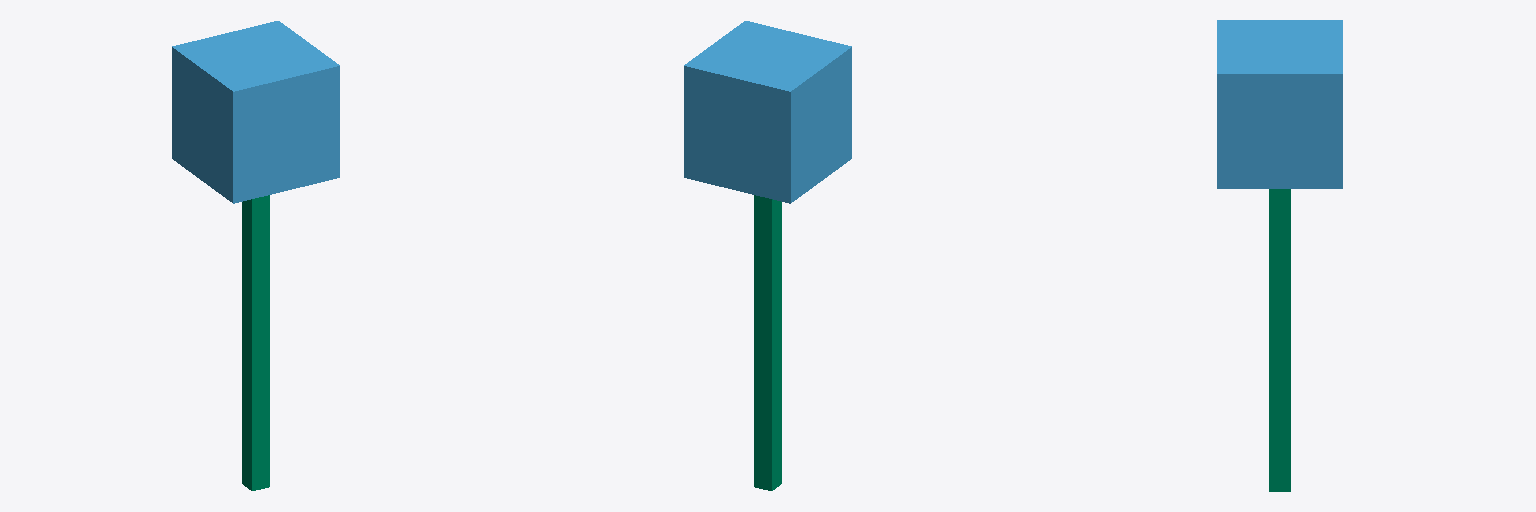
URDF robot description (pendulum_cart):
<?xml version="1.0" encoding="utf-8"?>
<robot name="pendulum_cart">
    <!-- Inertia box Ixx = 1/12 * (ly*2 + lh*2)-->

    <link name="odom"/>

    <joint name="cart" type="prismatic">
        <origin rpy="0 0 0" xyz="0 0 0"/>
        <parent link="odom"/>
        <child link="cart_link"/>
        <axis xyz="0 1 0"/>
        <limit effort="1000" lower="-30.14" upper="30.14" velocity="1.0"/>
    </joint>

    <link name="cart_link">
        <inertial>
            <origin xyz="0.0 0.0 0.0" rpy="0 0 0" />
            <mass value="1.0" />
            <inertia ixx="0.001667" ixy="0.0" ixz="0.0" iyy="0.0841667" iyz="0.0" izz="0.084167" />
        </inertial>
        <visual>
            <origin xyz="0.0 0.0 0.0" rpy="0 0 0"/>
            <geometry>
                <box size="0.3 0.3 0.3"/>
            </geometry>
        </visual>
    </link>

    <joint name="pendulum" type="continuous">
        <origin rpy="0 1.57079632 0" xyz="0.0 0.0 0.0"/>
        <parent link="cart_link"/>
        <child link="pendulum_link"/>
        <axis xyz="0 0 1"/>
        <limit effort="1000" velocity="1.0"/>
    </joint>

    <link name="pendulum_link">
        <inertial>
            <origin xyz="0.5 0.0 0.0" rpy="0 0 0" />
            <mass value="1.0" />
            <inertia ixx="0.001667" ixy="0.0" ixz="0.0" iyy="0.0841667" iyz="0.0" izz="0.084167" />
        </inertial>
        <visual>
            <origin xyz="0.5 0.0 0.0" rpy="0 0 0"/>
            <geometry>
                <box size="1 0.05 0.05"/>
            </geometry>
        </visual>
    </link>

</robot>

--- Facts derived from the render (not from the file) ---
3 views of the same robot in one strip: view 1: azimuth 30°, elevation 25°; view 2: azimuth 150°, elevation 25°; view 3: azimuth 270°, elevation 25° (orthographic).
Model pendulum_cart with 3 links and 2 joints (1 continuous, 1 prismatic), rooted at odom, posed every joint at zero.
Links seen in each view (by area): view 1: cart_link, pendulum_link; view 2: cart_link, pendulum_link; view 3: cart_link, pendulum_link.
Link boxes in pixels (box(x1,y1,x2,y2)): cart_link: box(172, 21, 339, 203); pendulum_link: box(242, 195, 269, 490); cart_link: box(684, 21, 851, 203); pendulum_link: box(754, 195, 781, 490); cart_link: box(1217, 20, 1342, 188); pendulum_link: box(1269, 189, 1290, 491).
Bounding box of the posed robot: 0.3 × 0.3 × 1.15 m (x, y, z).
Geometry: primitives only (box / cylinder / sphere), no mesh files.